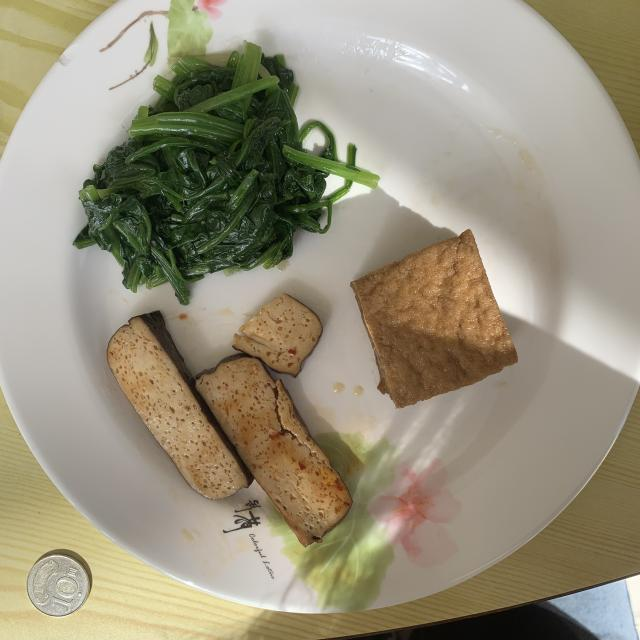coin: (26, 550, 91, 616)
egg tofu: (351, 229, 518, 408)
firm tofu: (108, 294, 352, 546)
mustard greens: (72, 41, 379, 305)
